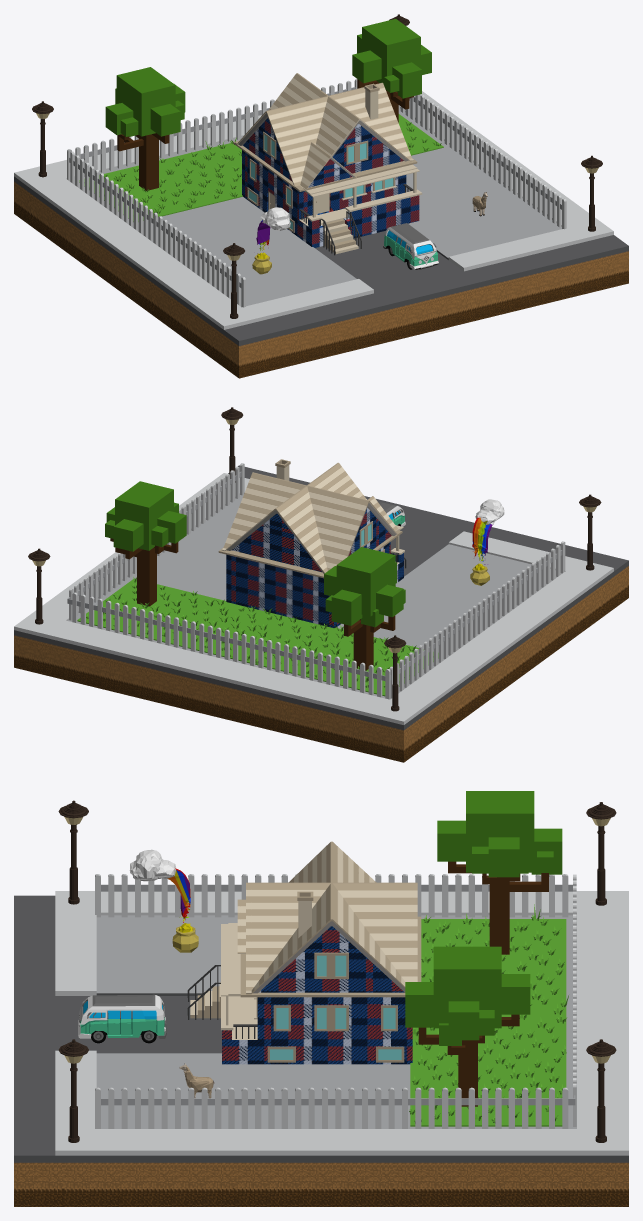
3 views of the same model, one above another, from view 1: azimuth 30°, elevation 25°; view 2: azimuth 150°, elevation 25°; view 3: azimuth 270°, elevation 25° (orthographic). The views are drawn at different scales.
Visible parts, largest first — view 1: Cube.004, Cube.171, VEHICLES_VAN, OBJRANDOM_RAINBOW; view 2: Cube.004, Cube.171, OBJRANDOM_RAINBOW; view 3: Cube.004, Cube.171, VEHICLES_VAN, OBJRANDOM_RAINBOW.
Boxes of the visible parts, x1,y1,x2,y2 form: Cube.004: (14, 14, 628, 378); Cube.171: (233, 73, 422, 255); VEHICLES_VAN: (383, 223, 438, 270); OBJRANDOM_RAINBOW: (252, 207, 290, 274); Cube.004: (14, 407, 628, 762); Cube.171: (218, 459, 406, 627); OBJRANDOM_RAINBOW: (470, 499, 504, 585); Cube.004: (14, 791, 628, 1206); Cube.171: (187, 841, 421, 1064); VEHICLES_VAN: (78, 994, 166, 1043); OBJRANDOM_RAINBOW: (129, 849, 198, 952).
Size of the model in its own units: 4000 by 1617 by 4000.
38 materials, 4 textured.
